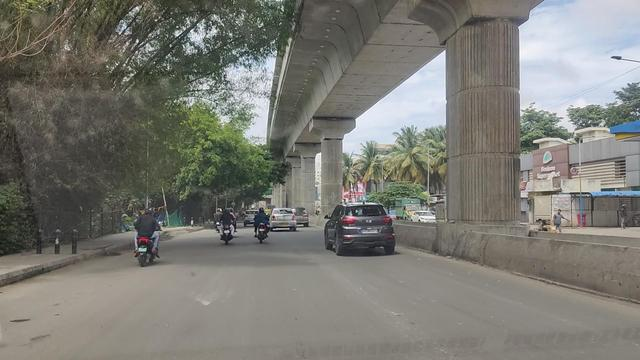LMV: (324, 198, 398, 260), (131, 196, 161, 271), (253, 205, 273, 246), (221, 207, 237, 246)
